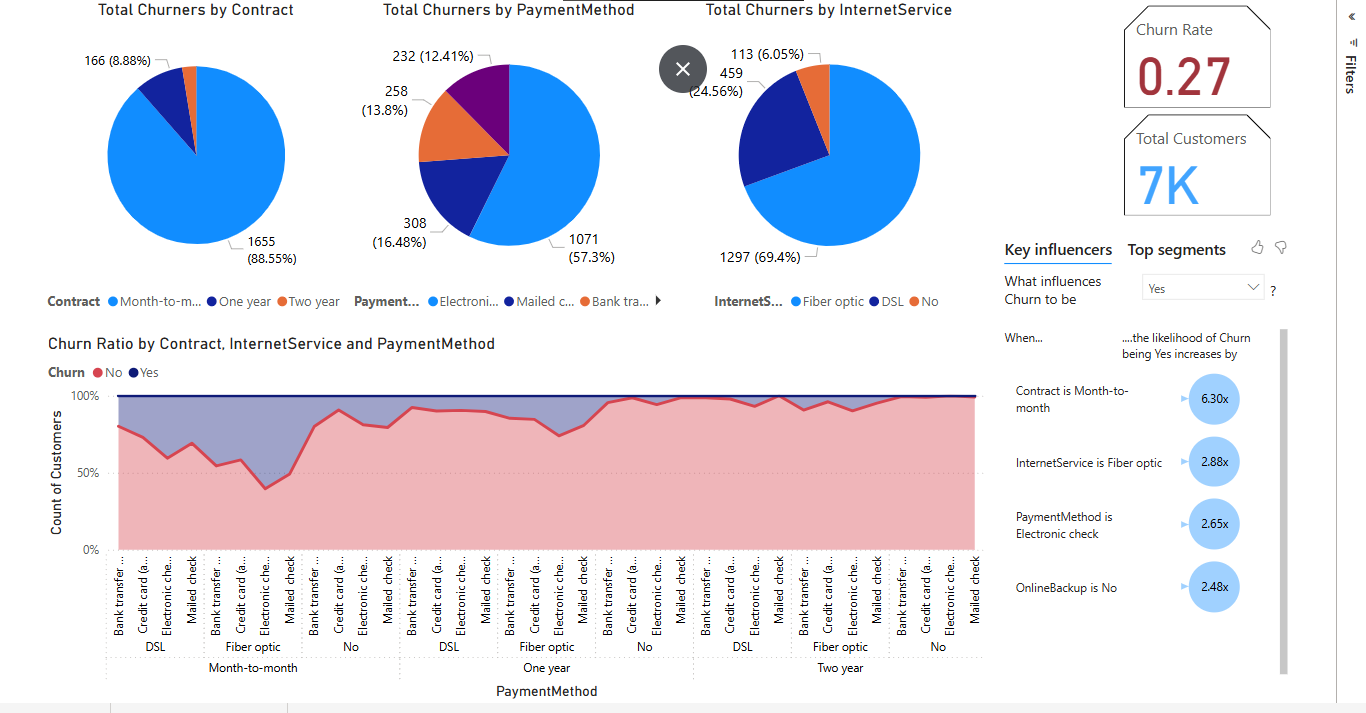

The page's visual inventory and layout, read from the dashboard file:
{"tool":"powerbi","page":{"name":"Page 1","canvas":[1280,720],"ordinal":0},"visuals":[{"type":"pieChart","fields":{"Category":["public telco_customers.Contract"],"Y":["public telco_customers.Total Churners"]},"box":[0,0,312.9,327.1],"z":0},{"type":"cardVisual","fields":{"Data":["public telco_customers.Total Customers"]},"box":[1101.4,111.4,161.4,114.3],"z":1000},{"type":"cardVisual","fields":{"Data":["public telco_customers.Churn Rate"]},"box":[1101.4,0,161.4,115.7],"z":2000},{"type":"keyDriversVisual","fields":{"Target":["public telco_customers.Churn"],"ExplainBy":["public telco_customers.PaymentMethod","public telco_customers.Contract","public telco_customers.InternetService","public telco_customers.OnlineBackup"]},"box":[968,230,312,480],"z":3000},{"type":"pieChart","fields":{"Category":["public telco_customers.InternetService"],"Y":["public telco_customers.Total Churners"]},"box":[640,0,328.6,327.1],"z":4000},{"type":"pieChart","fields":{"Y":["public telco_customers.Total Churners"],"Category":["public telco_customers.PaymentMethod"]},"box":[312.9,0,327.1,327.1],"z":5000},{"type":"hundredPercentStackedAreaChart","title":"Churn Ratio by Contract, InternetService and PaymentMethod","fields":{"Category":["public telco_customers.Contract","public telco_customers.InternetService","public telco_customers.PaymentMethod"],"Series":["public telco_customers.Churn"],"Y":["CountNonNull(public telco_customers.customerID)"]},"box":[0,341.4,968.6,378.6],"z":6000}]}

Visuals, with their boxes on the page's 1280x720 design canvas (x1, y1, x2, y2). These are canvas units, not pixel positions in the 1366x713 screenshot, which may show the page scaled, cropped or inside an application window:
pieChart - public telco_customers.Contract x public telco_customers.Total Churners: 0 0 313 327
cardVisual - public telco_customers.Total Customers: 1101 111 1263 226
cardVisual - public telco_customers.Churn Rate: 1101 0 1263 116
keyDriversVisual - public telco_customers.Churn x public telco_customers.PaymentMethod: 968 230 1280 710
pieChart - public telco_customers.InternetService x public telco_customers.Total Churners: 640 0 969 327
pieChart - public telco_customers.Total Churners x public telco_customers.PaymentMethod: 313 0 640 327
"Churn Ratio by Contract, InternetService and PaymentMethod" hundredPercentStackedAreaChart: 0 341 969 720
